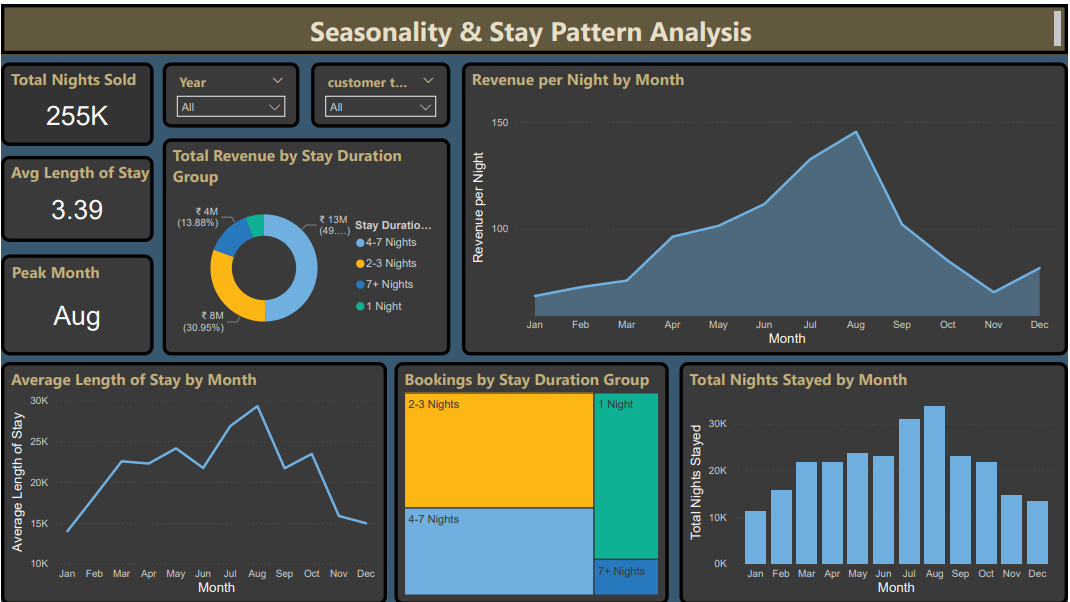

The dashboard page shown, as its layout file describes it:
{"tool":"powerbi","page":{"name":"Seasonality & Stay Pattern Analysis","canvas":[1280,720],"ordinal":3},"visuals":[{"type":"textbox","box":[0,0,1280,60.3],"z":0},{"type":"card","title":"Avg Length of Stay","fields":{"Values":["Avg(Sheet1.Average Length of Stay)"]},"box":[0,182.2,183.4,102.7],"z":1000},{"type":"card","title":"Total Nights Sold","fields":{"Values":["Sheet1.Total Nights Stayed"]},"box":[0,69.7,183.4,100.3],"z":2000},{"type":"card","title":"Peak Month","fields":{"Values":["Min(Sheet1.Peak Month)"]},"box":[0,299.6,183.4,121.1],"z":3000},{"type":"lineChart","title":"Average Length of Stay by Month","fields":{"Category":["Calendar.Month"],"Y":["Sum(Sheet1.Average Length of Stay)"]},"box":[0,429.2,463.5,291],"z":4000},{"type":"donutChart","fields":{"Category":["Sheet1.Stay Duration Group"],"Y":["Sheet1.Total Revenue"]},"box":[194.4,161.4,344.8,259.2],"z":5000},{"type":"clusteredColumnChart","fields":{"Category":["Calendar.Month"],"Y":["Sheet1.Total Nights Stayed"]},"box":[814.4,429.2,465.9,291],"z":6000},{"type":"areaChart","fields":{"Category":["Calendar.Month"],"Y":["Sheet1.Revenue per Night"]},"box":[552.7,69.7,727.6,351],"z":7000},{"type":"treemap","fields":{"Group":["Sheet1.Stay Duration Group"],"Values":["Sheet1.Bookings"]},"box":[472,429.2,328.9,291],"z":8000},{"type":"slicer","fields":{"Values":["Calendar.Year"]},"box":[194.4,69.7,163.9,78.3],"z":9000},{"type":"slicer","fields":{"Values":["Sheet1.customer_type"]},"box":[371.7,69.7,167.5,78.3],"z":10000}]}

Visuals, with their boxes in screenshot pixels (x1, y1, x2, y2), scaled from the page's 1280x720 canvas onto the 1070x602 screenshot:
textbox: (0,0,1069,50)
"Avg Length of Stay" card: (0,152,153,238)
"Total Nights Sold" card: (0,58,153,142)
"Peak Month" card: (0,250,153,352)
"Average Length of Stay by Month" lineChart: (0,359,387,601)
donutChart - Sheet1.Stay Duration Group x Sheet1.Total Revenue: (163,135,451,352)
clusteredColumnChart - Calendar.Month x Sheet1.Total Nights Stayed: (681,359,1069,601)
areaChart - Calendar.Month x Sheet1.Revenue per Night: (462,58,1069,352)
treemap - Sheet1.Stay Duration Group x Sheet1.Bookings: (395,359,670,601)
slicer - Calendar.Year: (163,58,300,124)
slicer - Sheet1.customer_type: (311,58,451,124)
